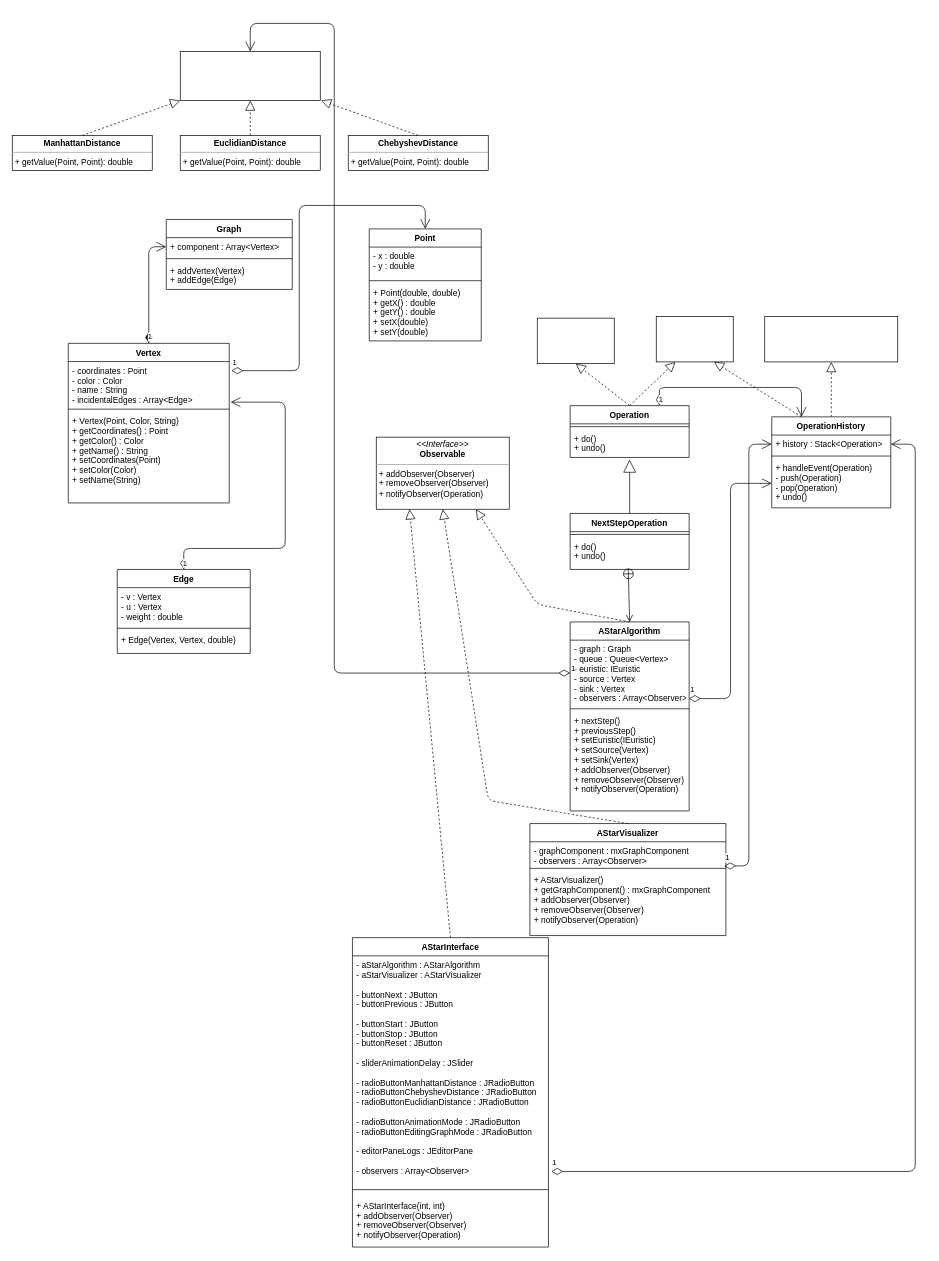
The diagram is 939 pixels wide and 1261 high, and some of its shapes have lost their labels. The centre of each missing label's shape, as x and y in pixels:
"<<Interface>> Doable + do()" goes at (x=575, y=340).
"<<Interface>> IHeuristic + getValue(Point, Point): double" goes at (x=250, y=75).
"<<Interface>> Observer + handleEvent(Operation)" goes at (x=831, y=339).
"<<Interface>> Undoable + undo()" goes at (x=694, y=339).
